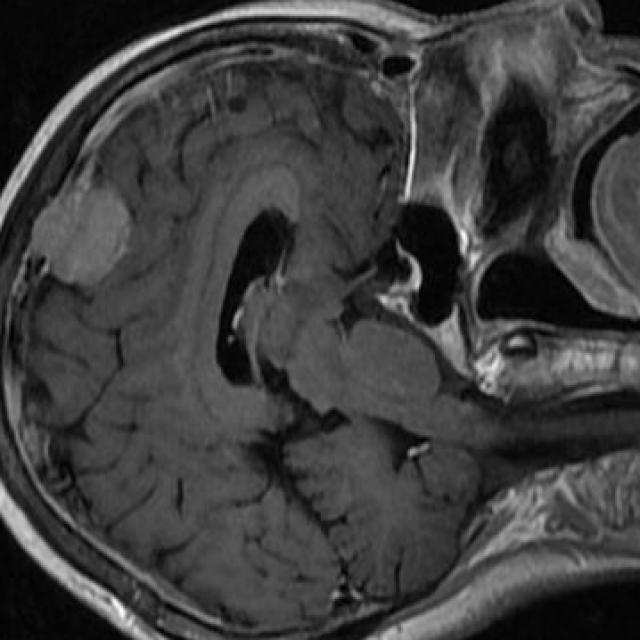meningioma: (30, 187, 132, 285)
